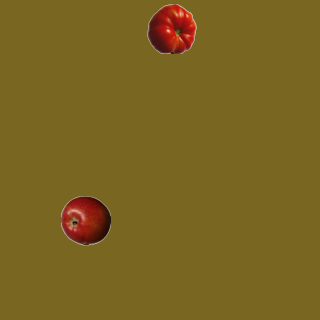Apple Braeburn: (60, 195, 110, 245)
Tomato 3: (146, 3, 196, 53)
